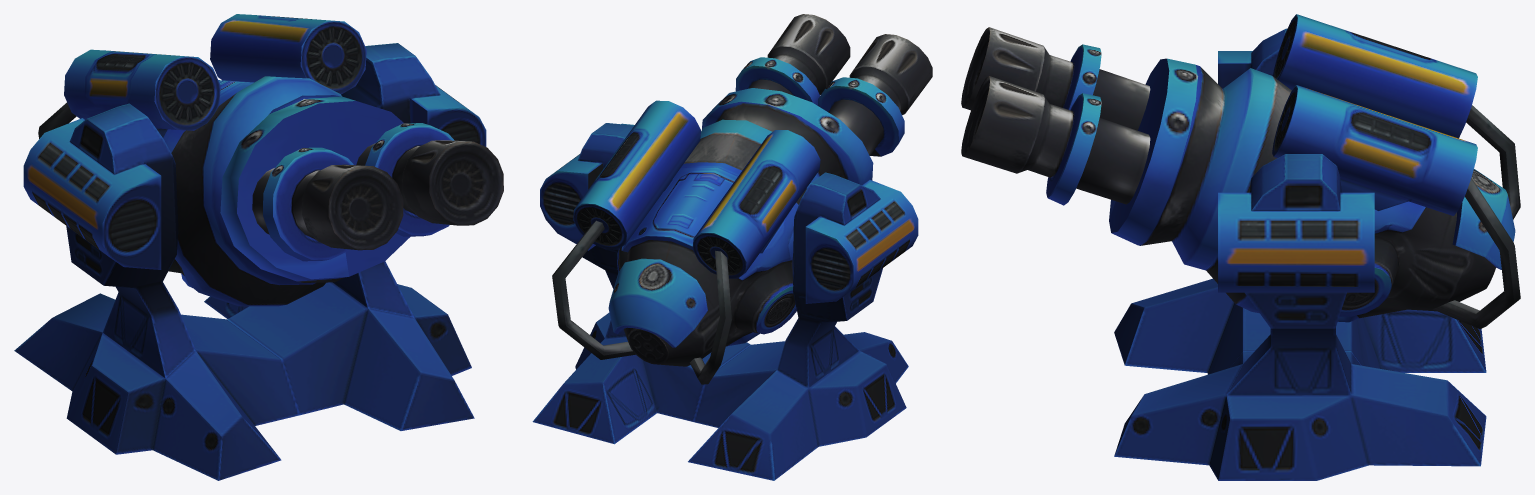
File: Cannon_05.FBX
3 views of the same model, side by side, from view 1: azimuth 30°, elevation 25°; view 2: azimuth 150°, elevation 25°; view 3: azimuth 270°, elevation 25° (orthographic). The views are drawn at different scales.
Parts seen in each view (by area): view 1: Base, Turret; view 2: Turret, Base; view 3: Turret, Base.
Part boxes in pixels (x1,y1,x2,y2): Base: (14,43,486,480); Turret: (38,14,503,306); Turret: (552,14,932,384); Base: (532,123,918,480); Turret: (961,14,1520,328); Base: (1114,28,1486,480).
Size of the model in its own units: 139 by 119 by 177.
Materials: 1 (1 with a texture image).
